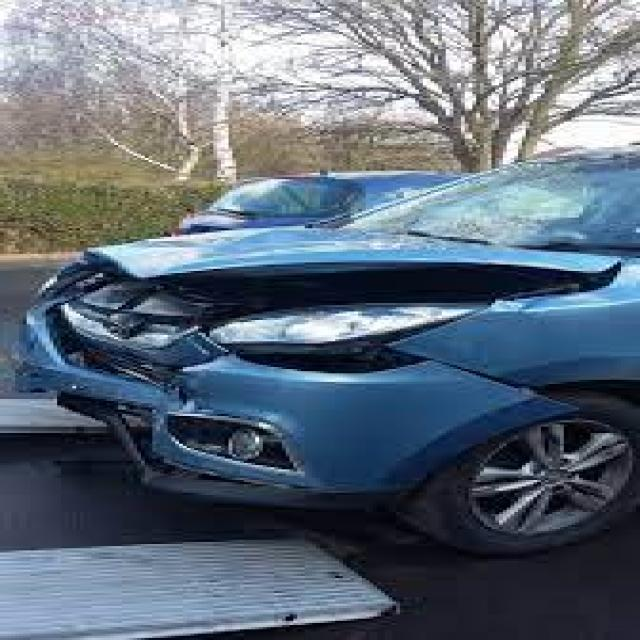moderate: (36, 178, 626, 467)
